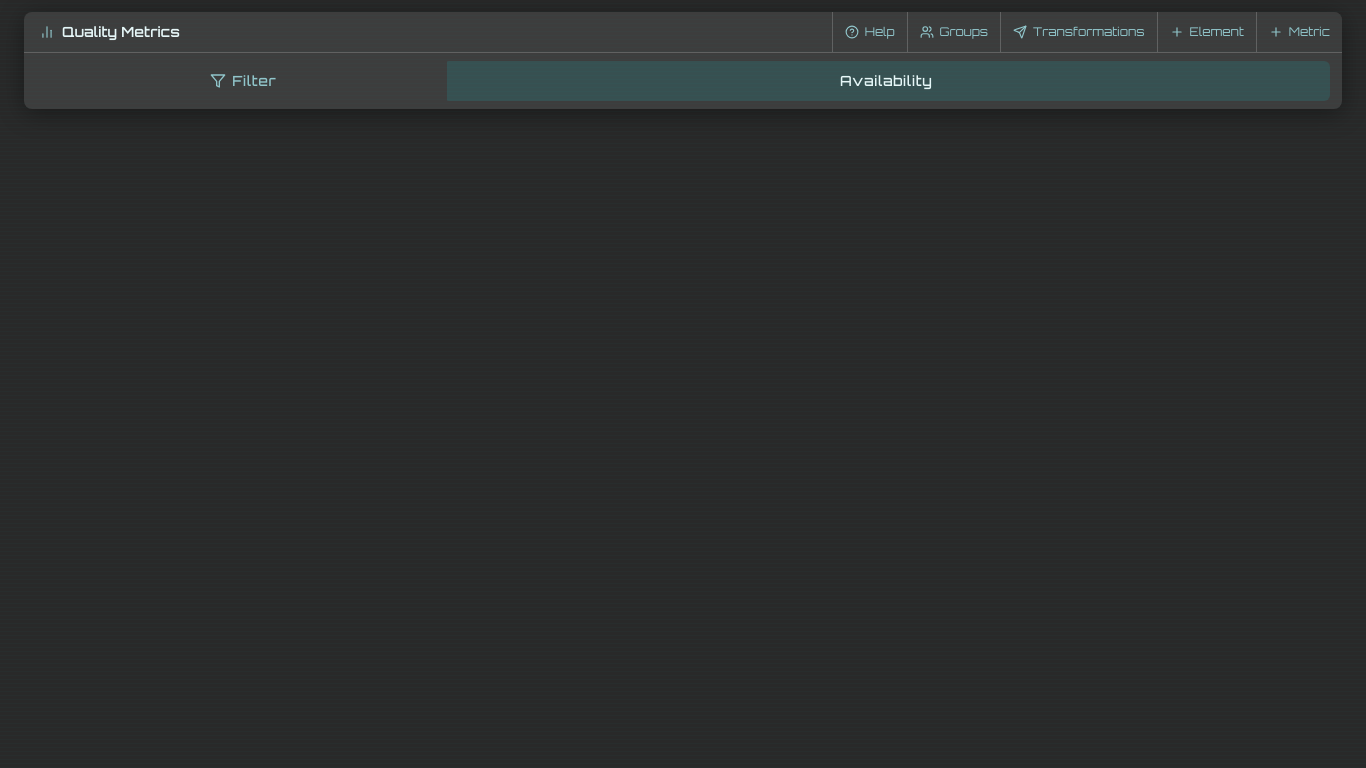
Test: MetricsView › header "Add Metric" button opens the template selector dialog
Click the button titled "Add metric".
click(1299, 32)  # box x1=1256 y1=12 x2=1342 y2=52
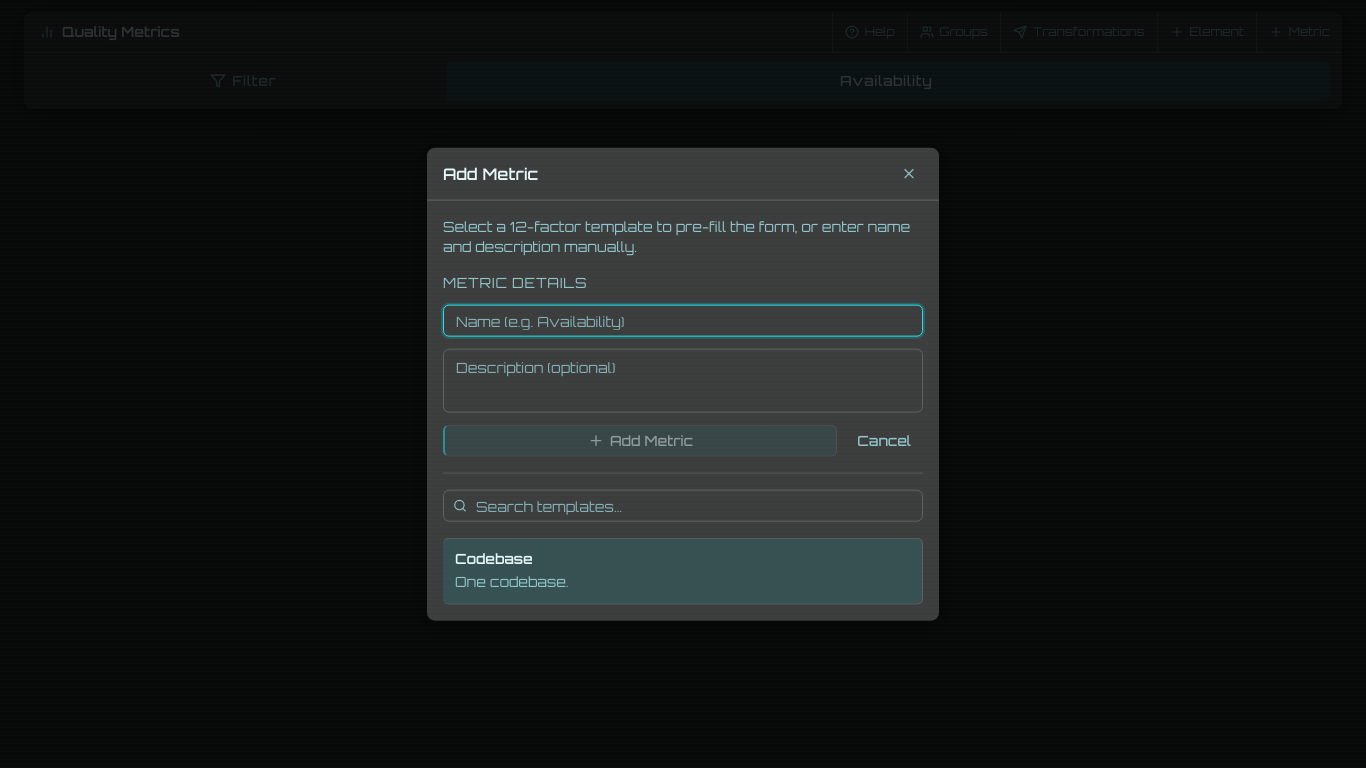
Expected: the heading "Add Metric" is shown, x1=443 y1=166 x2=538 y2=182
